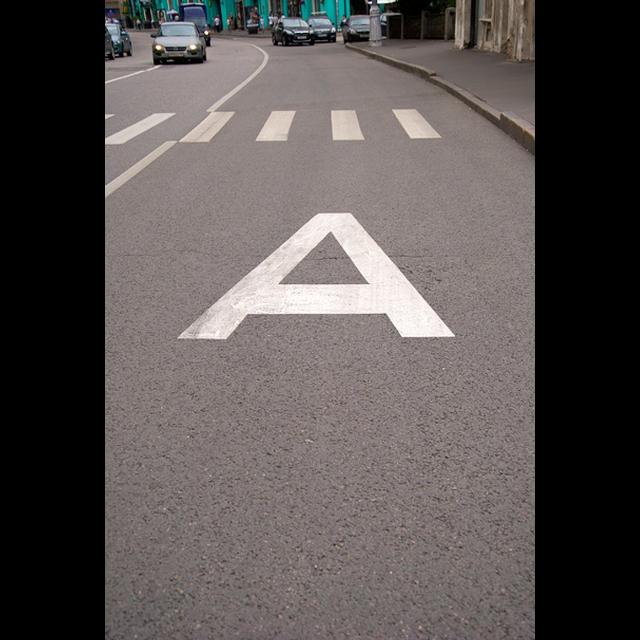road: (105, 31, 535, 639)
